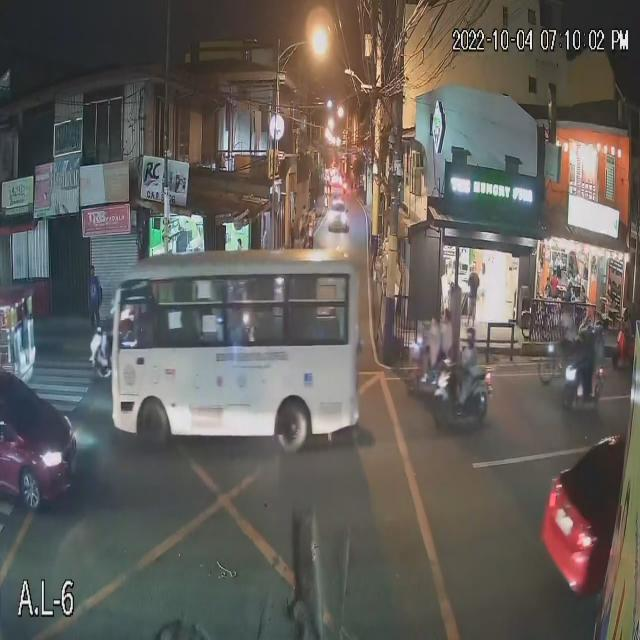helmet: (460, 326, 479, 348), (579, 327, 591, 344), (593, 324, 604, 338)
motorcycle: (435, 365, 492, 423), (558, 354, 609, 414)
rider: (450, 350, 477, 413), (589, 343, 605, 398), (578, 344, 594, 396)
